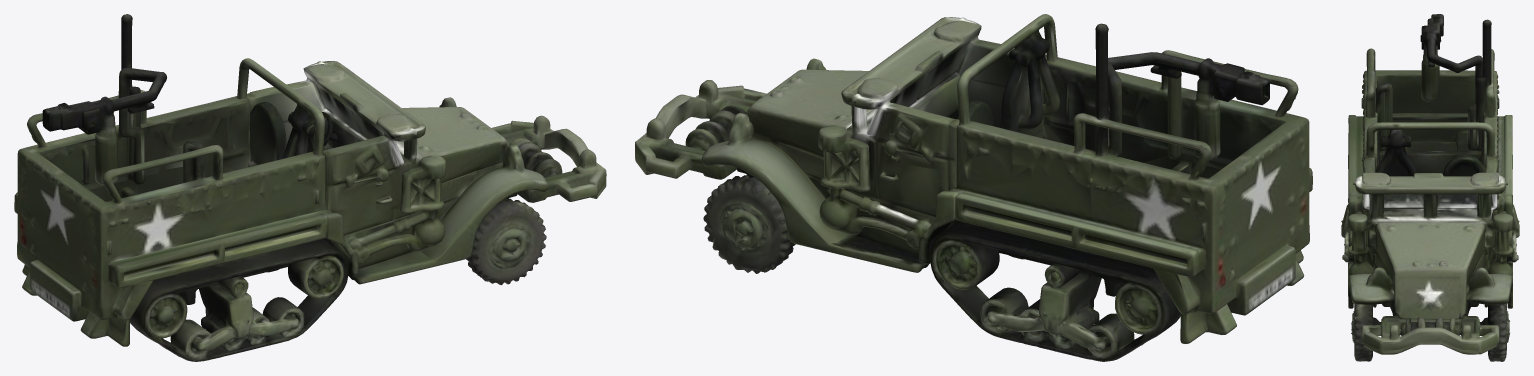
File: veh_apc.glb
The picture shows the model from 3 angles, left to right: view 1: azimuth 30°, elevation 25°; view 2: azimuth 150°, elevation 25°; view 3: azimuth 270°, elevation 25°; orthographic projection. The views are drawn at different scales.
Visible parts, largest first — view 1: node_0; view 2: node_0; view 3: node_0.
Part boxes in pixels (x1,y1,x2,y2): node_0: (14,14,606,361); node_0: (635,14,1312,361); node_0: (1341,14,1519,361).
Bounding box in the file's own units: 1.12 × 0.5743 × 0.4176.
1 material, 1 textured.
